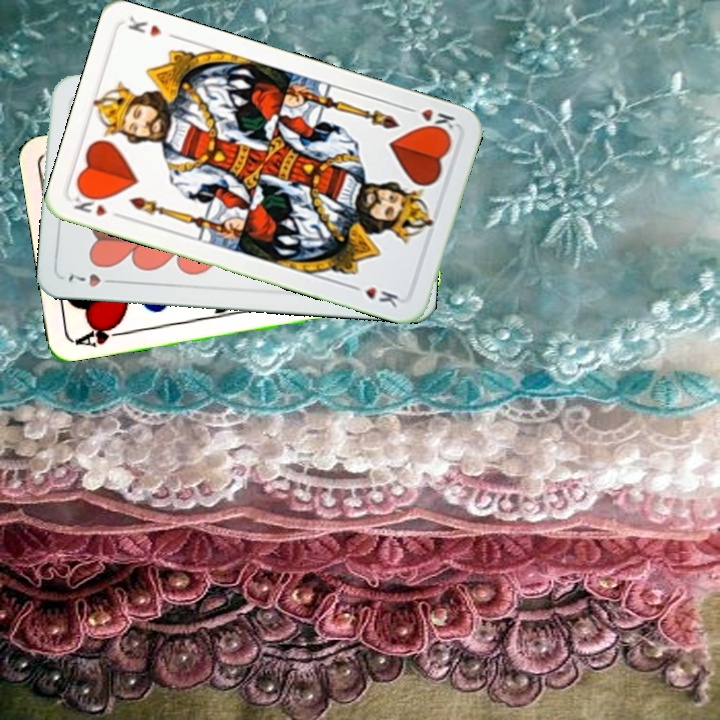H7: (63, 268, 120, 290)
HA: (71, 318, 130, 350)
HK: (69, 188, 127, 222), (401, 102, 457, 137)
